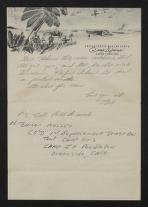page: (8, 8, 141, 199)
